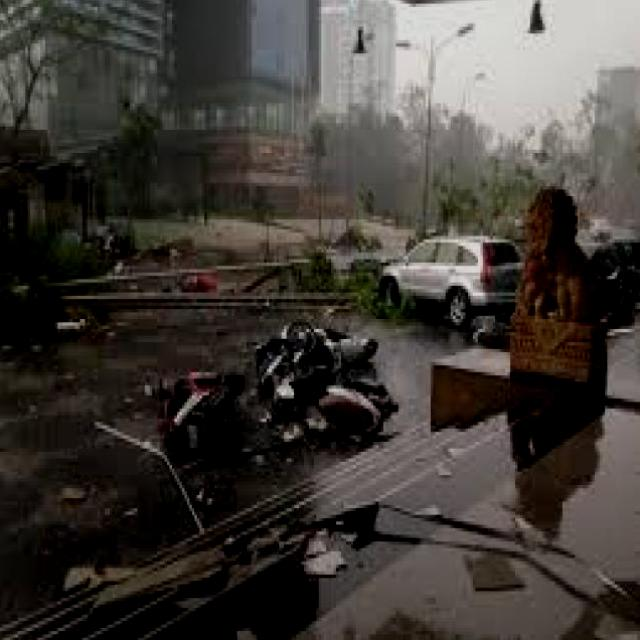fallen_object: (0, 166, 433, 345)
